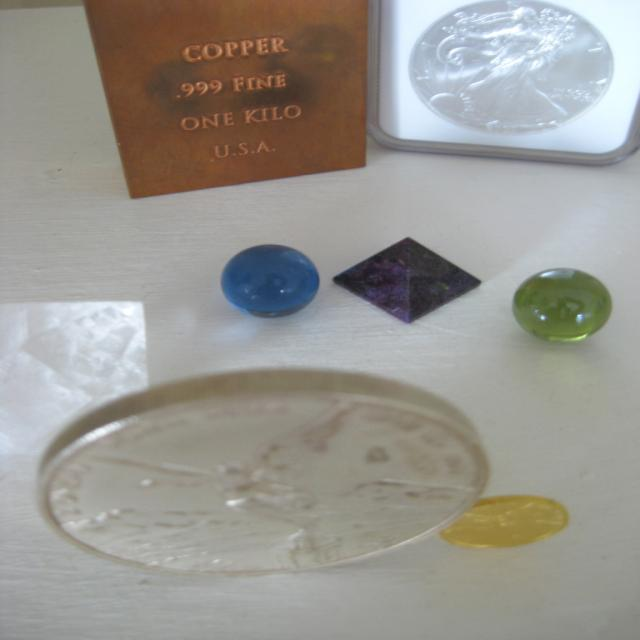Coin: (35, 366, 491, 585), (409, 0, 615, 132), (439, 494, 573, 551)
